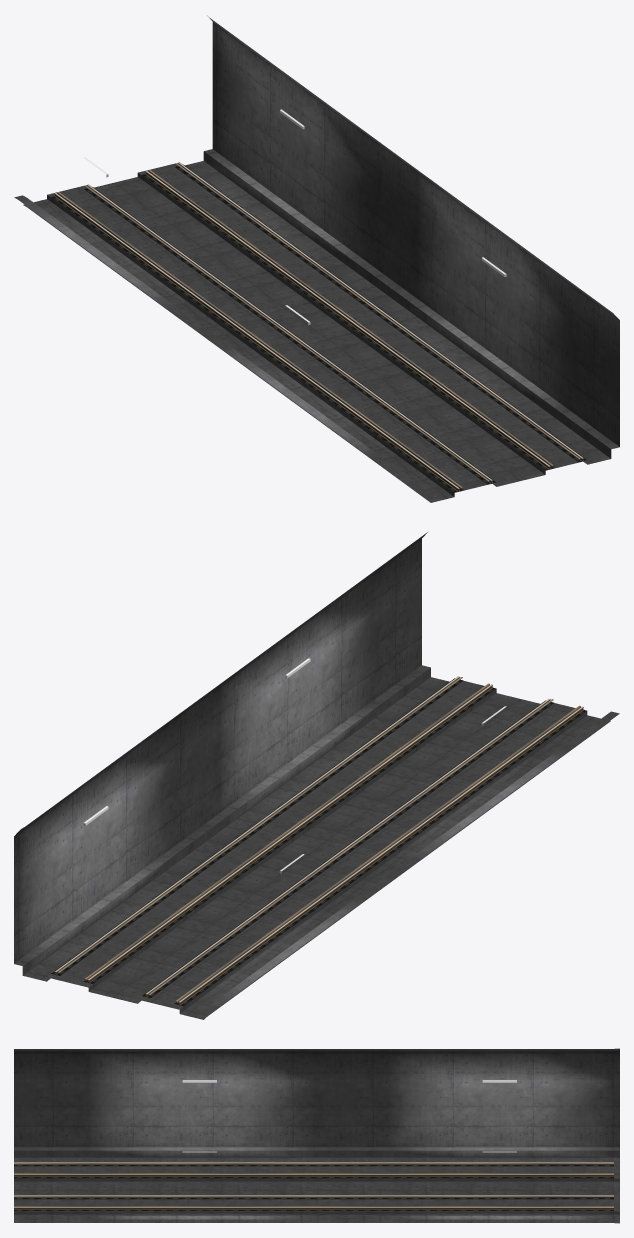
Rendered from KIN_2RAIL_CHIKA100_01.glb.
3 views of the same model, one above another, from view 1: azimuth 30°, elevation 25°; view 2: azimuth 150°, elevation 25°; view 3: azimuth 270°, elevation 25° (orthographic). The views are drawn at different scales.
Visible parts, largest first — view 1: obj1, RG_R, RG_L; view 2: obj1, RG_R, RG_L; view 3: obj1, RG_R, RG_L.
Part boxes in pixels (box(x1,y1,x2,y2)): obj1: box(14, 15, 619, 502); RG_R: box(57, 170, 552, 489); RG_L: box(84, 163, 580, 481); obj1: box(14, 531, 619, 1019); RG_R: box(84, 683, 580, 1003); RG_L: box(57, 677, 553, 996); obj1: box(14, 1048, 619, 1223); RG_R: box(14, 1163, 613, 1197); RG_L: box(14, 1173, 613, 1206).
Bounding box in the file's own units: 28.41 × 20 × 101.
11 materials, 10 textured.
